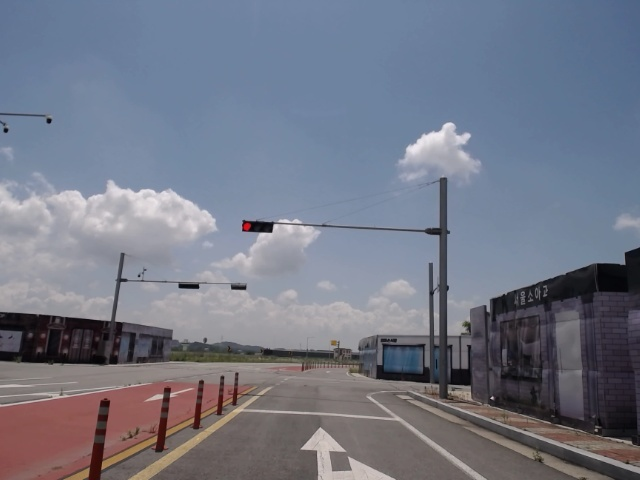red_3: (236, 219, 275, 234)
